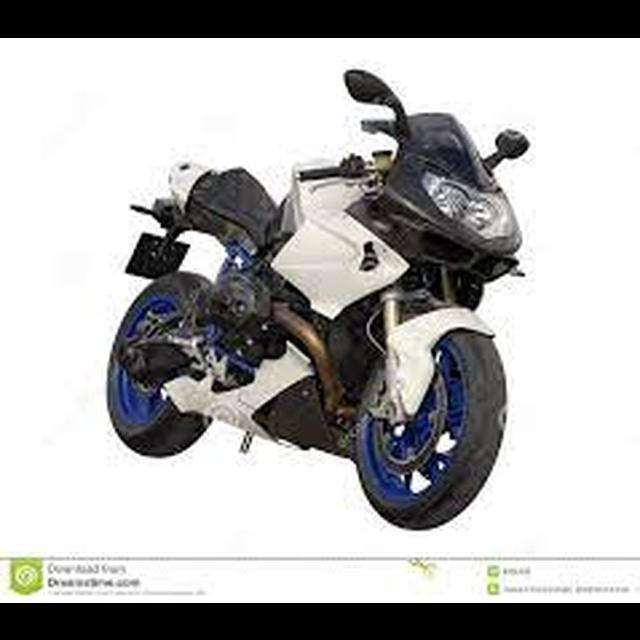motorcycle: (97, 63, 537, 537)
